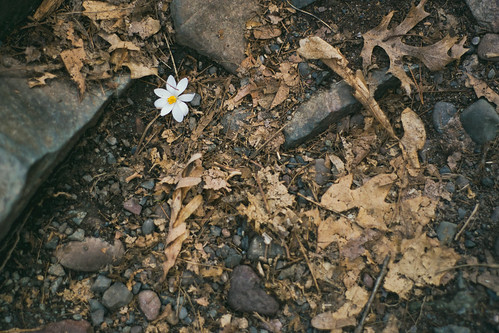flowers: (148, 68, 205, 130)
